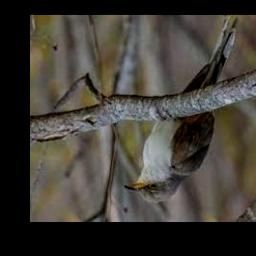Cuckoo: (123, 17, 241, 203)
